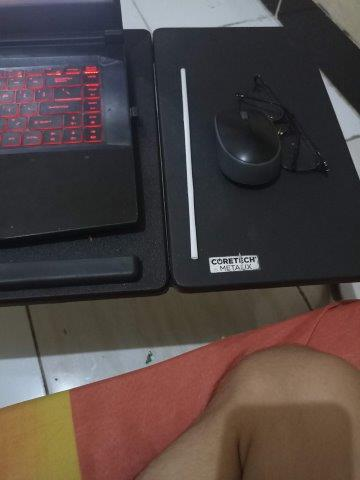sedotan: (180, 68, 198, 259)
